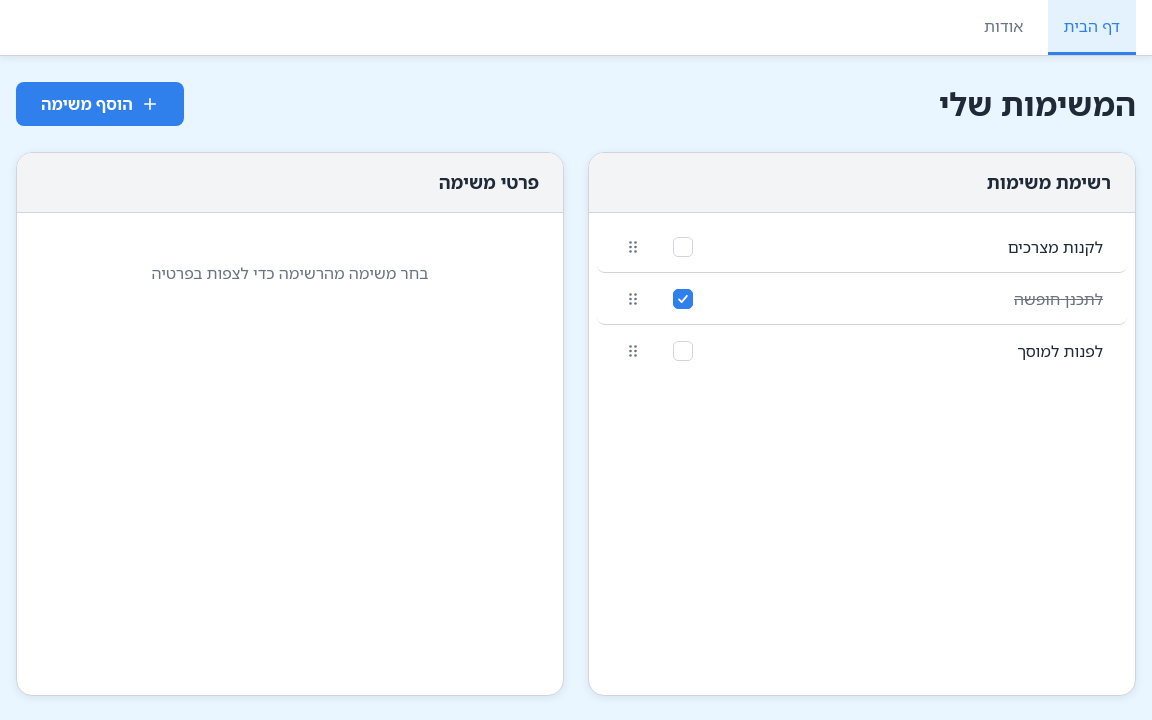
Scenario: completion checkbox › says the task no longer exists on a 404
What coordinates should you click on to do the following:
click the checkbox named "לקנות מצרכים"
I would click on:
 (683, 246)
Its box is [673,236,693,256].
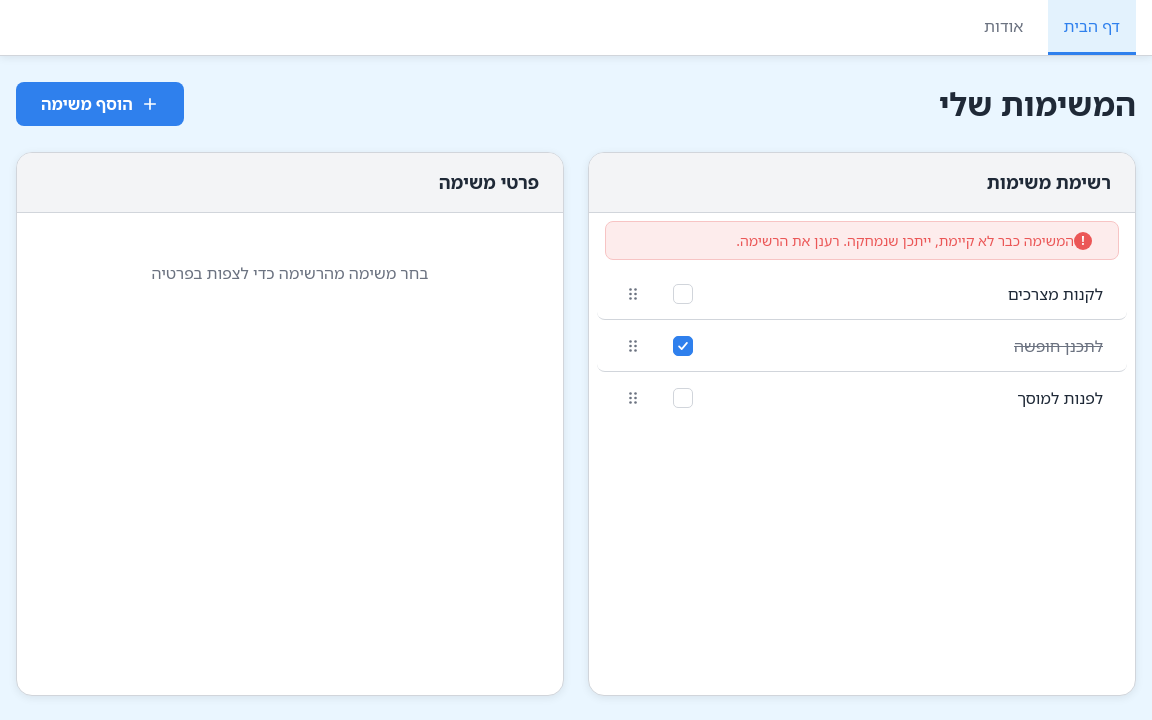
Expected: the checkbox named "לקנות מצרכים" is not checked, [673,284,693,304]
Expected: the message reads "המשימה כבר לא קיימת, ייתכן שנמחקה. רענן את הרשימה.", [736,231,1074,250]
